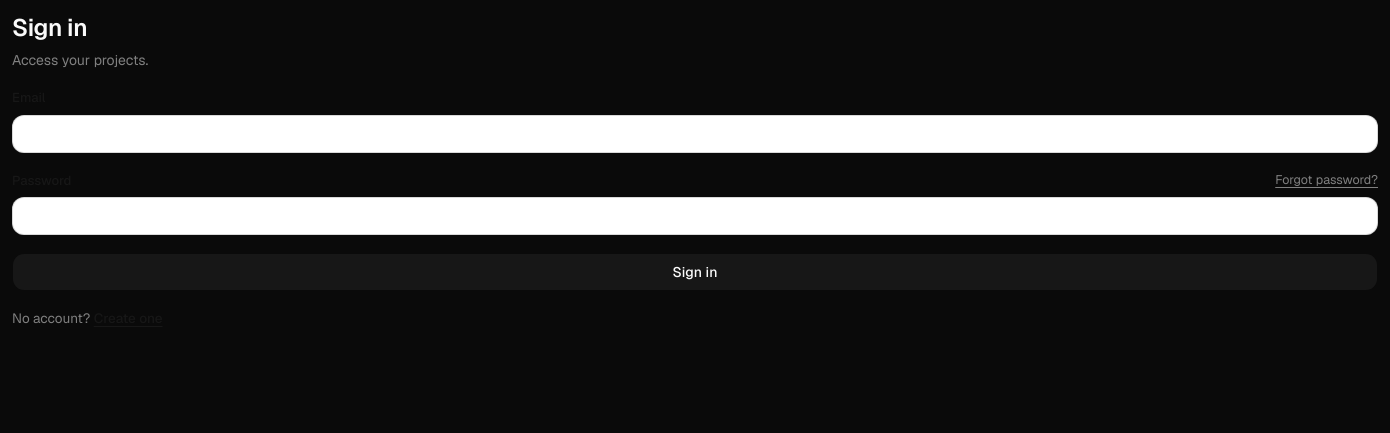
SignInForm › clears a stale form-level API error when resubmitting with invalid input
The width and height of the screenshot is (1390, 433).
Type "ada@example.com" into the field labelled "Email" at (695, 134), box [12, 114, 1378, 152]
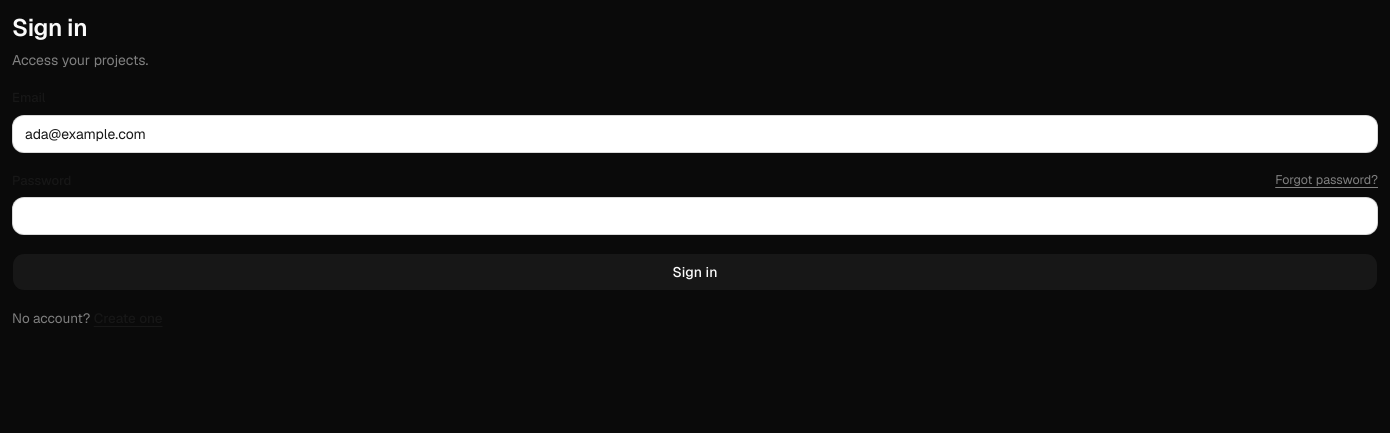
Type "not-the-password" into the password field labelled "Password" at (695, 216), box [12, 197, 1378, 235]
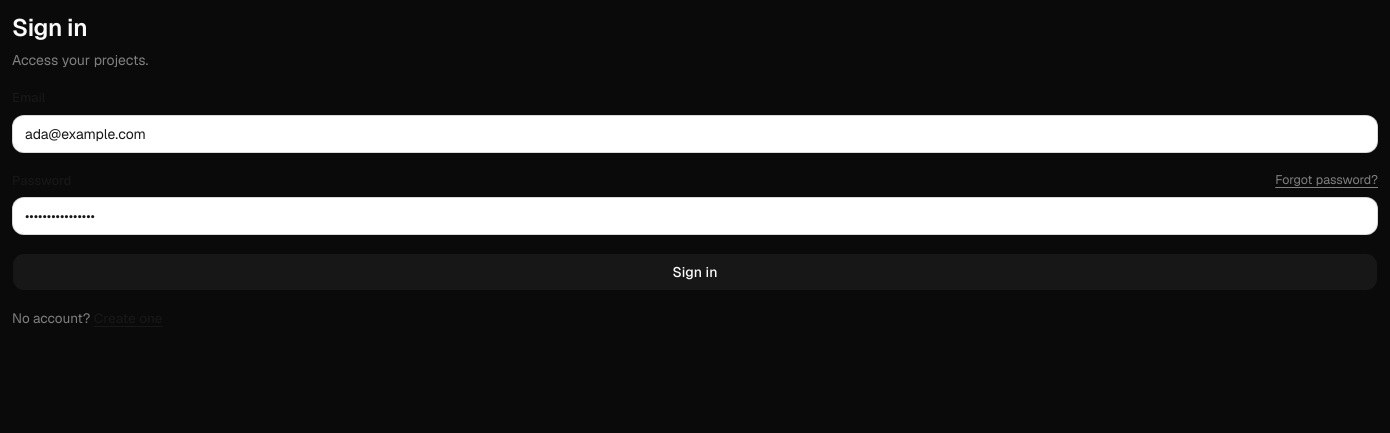
Click the button "Sign in" at (695, 272), box [12, 253, 1378, 291]
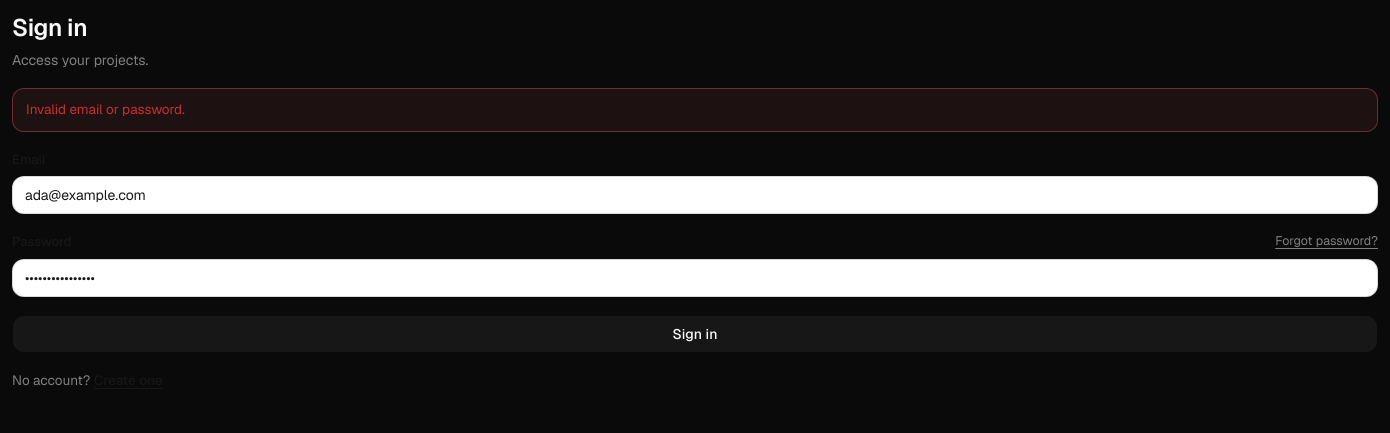
expect the message reads "Invalid email or password.": met, box [26, 100, 185, 118]
Clear the password field labelled "Password" at (695, 278), box [12, 259, 1378, 297]
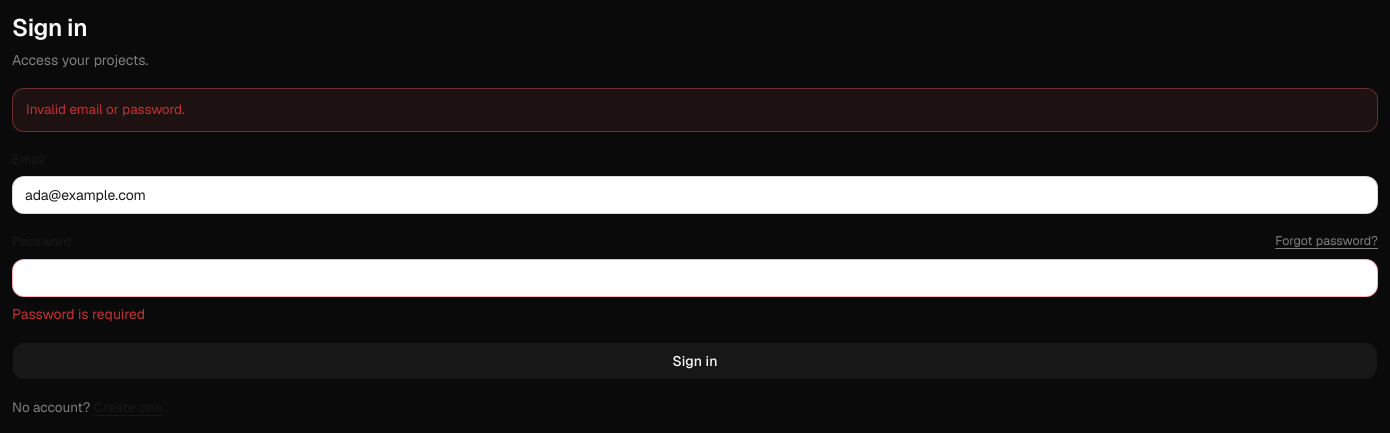
Click the button "Sign in" at (695, 361), box [12, 342, 1378, 380]
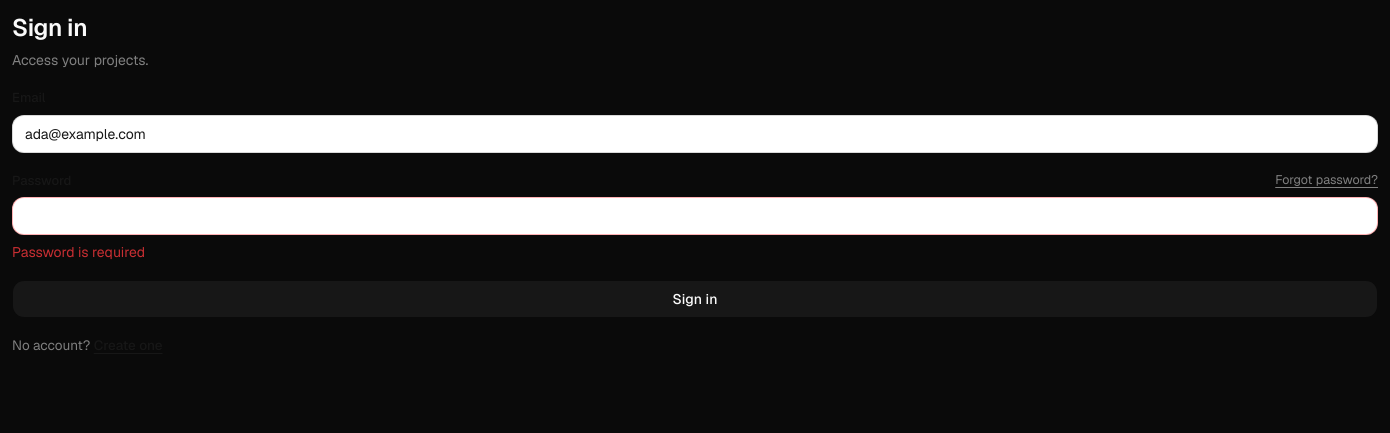
expect the text "Password is required" is shown: met, box [12, 243, 145, 261]
expect the text "Invalid email or password." is gone: met
